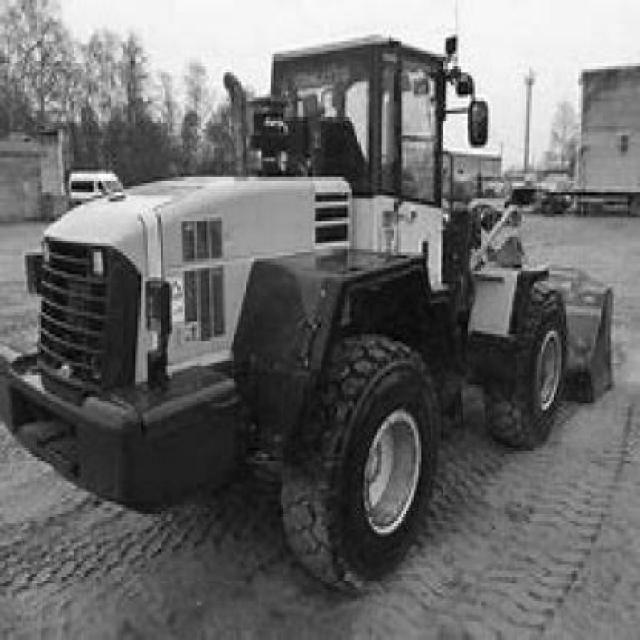Construction Equipment: (0, 35, 615, 595)
